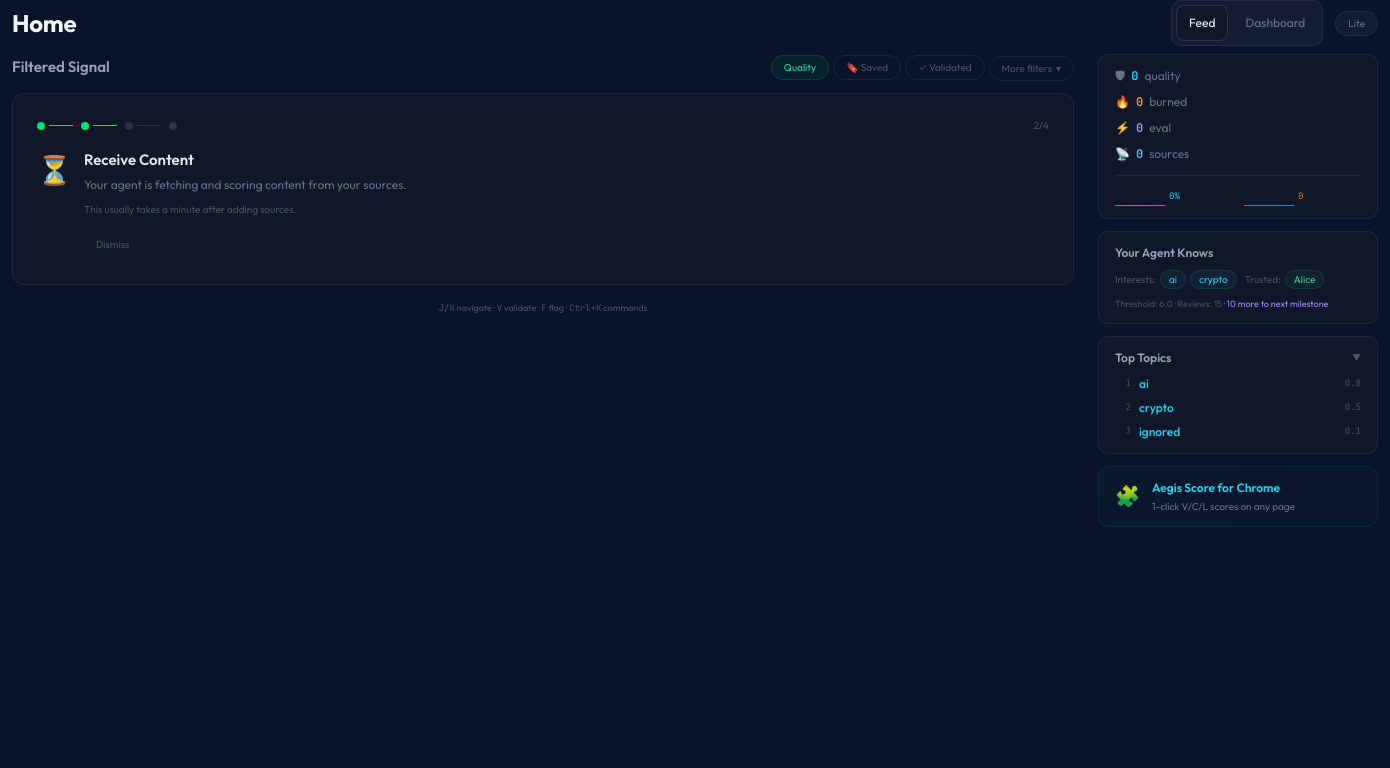
it: Mode toggle and localStorage persistence › switches from feed to dashboard mode on button click
This screenshot has width=1390, height=768.
Expected: the text "Filtered Signal" is shown, [12, 56, 110, 79]
Click the button with test id "aegis-home-mode-dashboard" at (1275, 23), box [1232, 5, 1318, 41]
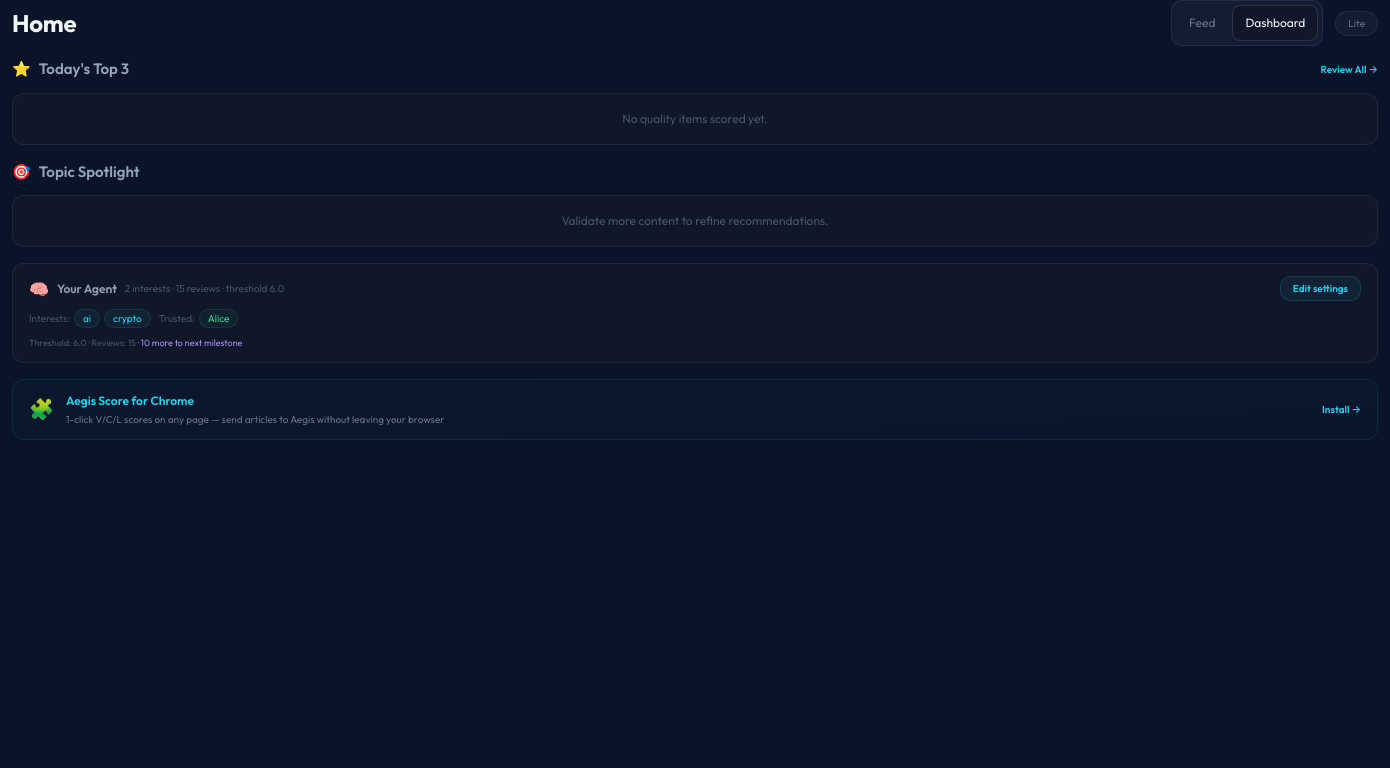
Now the text "Filtered Signal" is gone
Now the text "⭐ Today's Top 3 Review All →" is shown, box [12, 58, 1378, 80]
